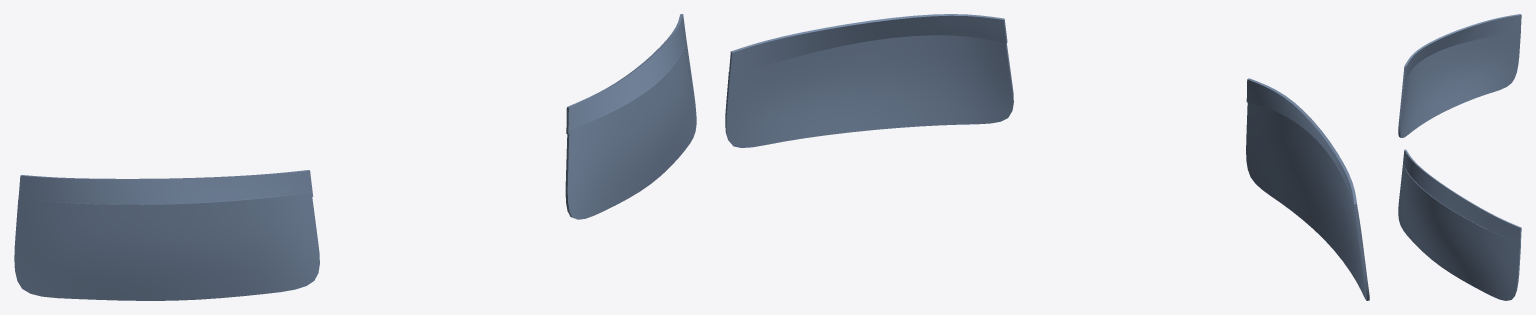
Rendered from SM_CarlosSA_Jacket_WaistPockets_StraightFlap.fbx.
3 renders of one model, left to right at view 1: azimuth 30°, elevation 25°; view 2: azimuth 150°, elevation 25°; view 3: azimuth 270°, elevation 25°, orthographic. The views are drawn at different scales.
Visible parts, largest first — view 1: SM_CarlosSA_Jacket_WaistPockets_StraightFlap; view 2: SM_CarlosSA_Jacket_WaistPockets_StraightFlap; view 3: SM_CarlosSA_Jacket_WaistPockets_StraightFlap.
Part boxes in pixels (box(x1,y1,x2,y2)): SM_CarlosSA_Jacket_WaistPockets_StraightFlap: box(14, 14, 696, 300); SM_CarlosSA_Jacket_WaistPockets_StraightFlap: box(725, 14, 1369, 300); SM_CarlosSA_Jacket_WaistPockets_StraightFlap: box(1398, 14, 1521, 300).
Bounding box in the file's own units: 0.3095 × 0.0569 × 0.0734.
